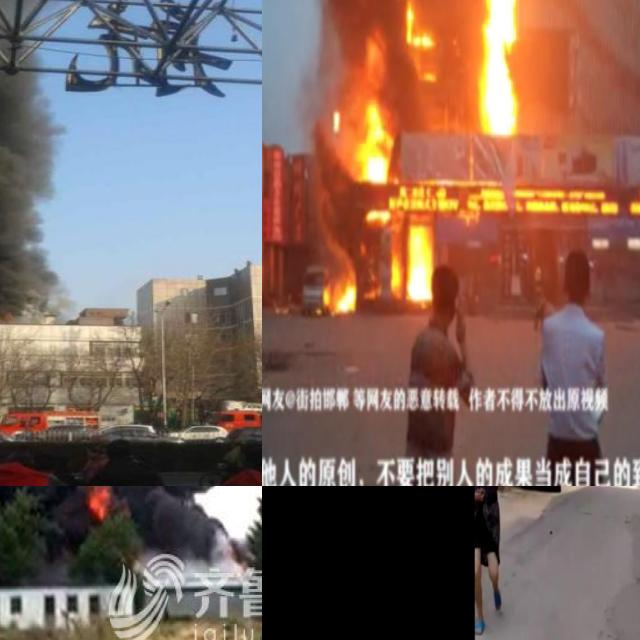fire: (477, 0, 521, 138), (356, 98, 392, 184), (405, 227, 431, 302), (322, 274, 357, 316), (404, 0, 432, 52), (85, 486, 111, 518)
smoke: (0, 0, 65, 312), (0, 486, 242, 561), (308, 76, 352, 280), (325, 0, 392, 63)
